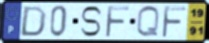0: (50, 5, 71, 39)
D: (18, 5, 48, 38)
F: (104, 5, 132, 39), (161, 5, 188, 39)
Q: (135, 5, 161, 39)
S: (79, 5, 104, 38)
